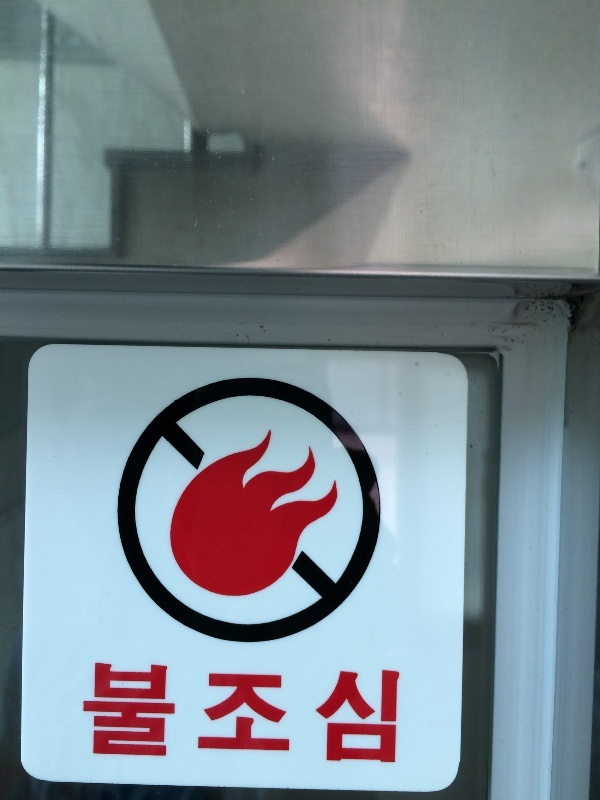text: (385, 658, 401, 768), (97, 658, 112, 768), (113, 658, 128, 768), (129, 658, 144, 768), (145, 658, 160, 768), (161, 658, 176, 768), (177, 658, 192, 768), (193, 658, 208, 768), (209, 658, 224, 768), (225, 658, 240, 768), (241, 658, 256, 768), (257, 658, 272, 768), (273, 658, 288, 768), (289, 658, 304, 768), (305, 658, 320, 768), (321, 658, 336, 768), (337, 658, 352, 768), (353, 658, 368, 768), (369, 658, 384, 768), (84, 658, 96, 768)
